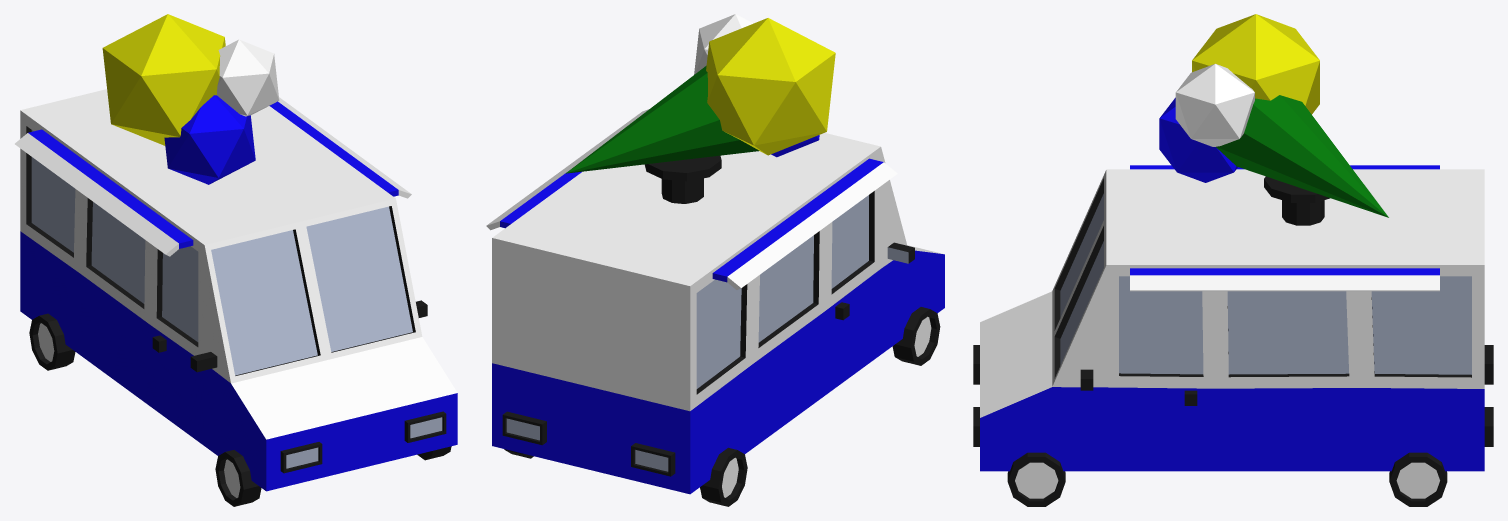
File: Car 5.fbx
The picture shows the model from 3 angles, left to right: view 1: azimuth 30°, elevation 25°; view 2: azimuth 150°, elevation 25°; view 3: azimuth 270°, elevation 25°; orthographic projection. The views are drawn at different scales.
Visible parts, largest first — view 1: Car, Sign, Back Right Tire, Front Right Tire; view 2: Car, Sign, Back Right Tire, Front Right Tire; view 3: Car, Sign, Back Left Tire, Front Left Tire.
Part boxes in pixels (x1,y1,x2,y2): Car: (15, 89, 457, 491); Sign: (102, 14, 279, 184); Back Right Tire: (29, 313, 75, 370); Front Right Tire: (215, 450, 261, 506); Car: (486, 109, 944, 494); Sign: (566, 14, 835, 203); Back Right Tire: (700, 447, 747, 506); Front Right Tire: (892, 307, 940, 365); Car: (973, 165, 1493, 471); Sign: (1159, 14, 1388, 225); Back Left Tire: (1389, 452, 1447, 506); Front Left Tire: (1007, 452, 1065, 506).
Size of the model in its own units: 2.31 by 3.58 by 4.11.
